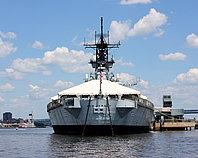MIL_Ship: (47, 15, 157, 133)
